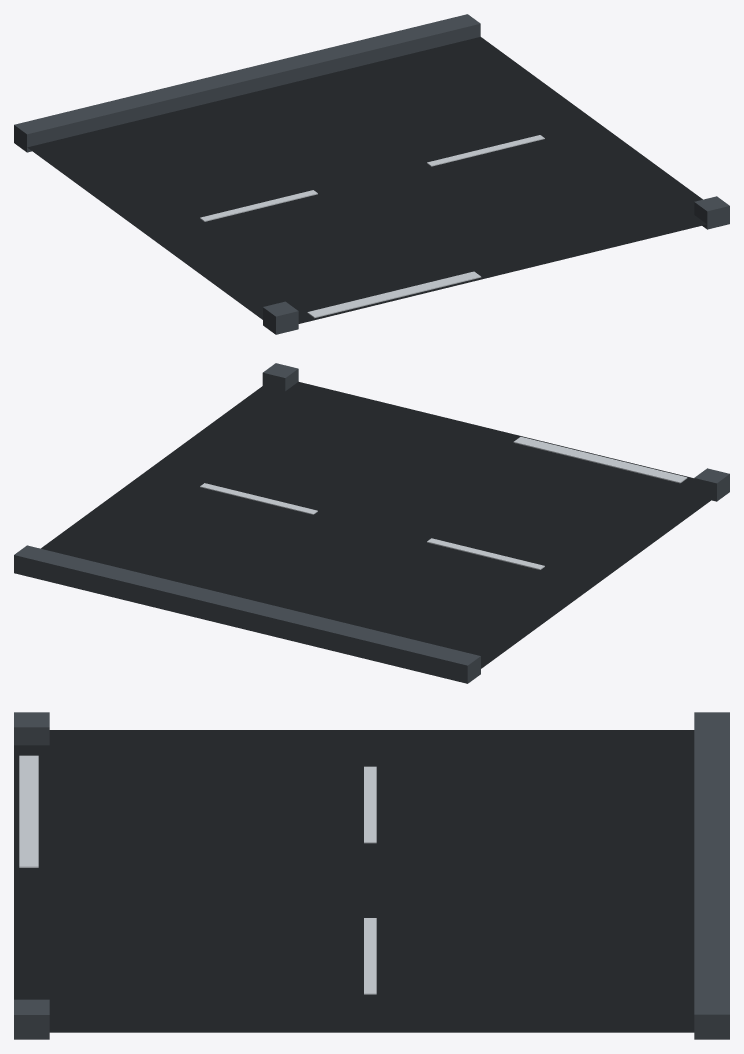
The model's file is Road_Tile_T-Junction.fbx.
The picture shows the model from 3 angles, top to bottom: view 1: azimuth 30°, elevation 25°; view 2: azimuth 150°, elevation 25°; view 3: azimuth 270°, elevation 25°; orthographic projection. The views are drawn at different scales.
Visible parts, largest first — view 1: Curb; view 2: Curb; view 3: Curb.
Part boxes in pixels (x1,y1,x2,y2): Curb: (14, 14, 729, 334); Curb: (14, 363, 729, 683); Curb: (14, 712, 729, 1039).
Bounding box in the file's own units: 2002 × 76.83 × 2001.
